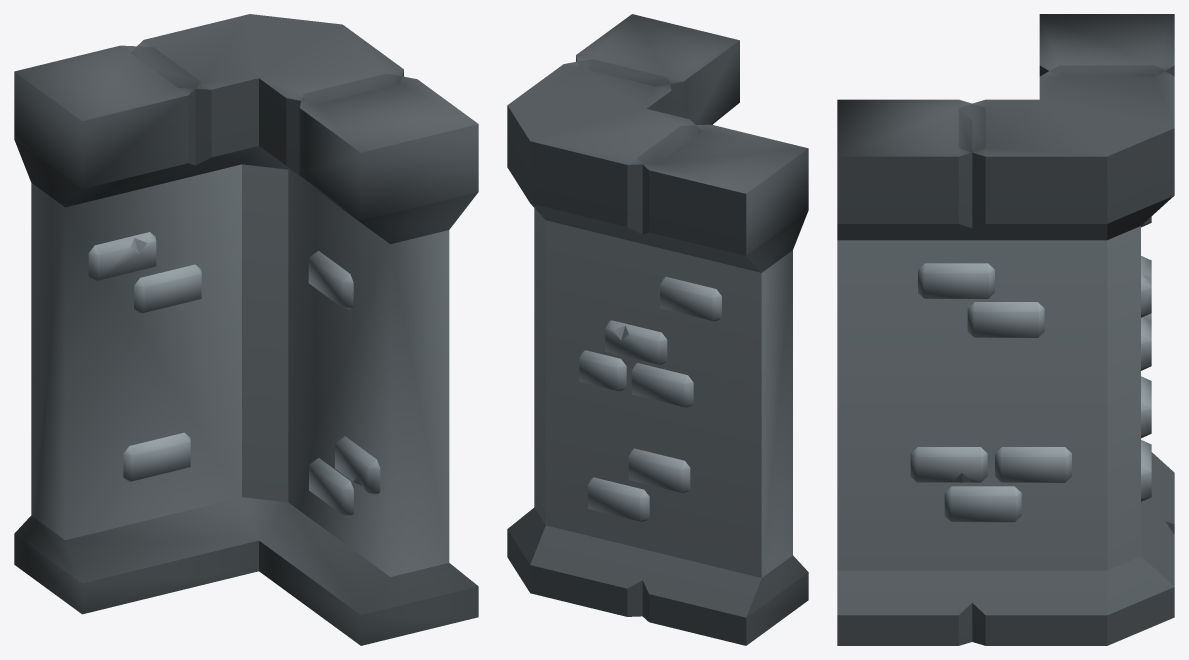
File: cellar_wall_corner-optimized.glb
3 renders of one model, left to right at view 1: azimuth 30°, elevation 25°; view 2: azimuth 150°, elevation 25°; view 3: azimuth 270°, elevation 25°, orthographic. The views are drawn at different scales.
Visible parts, largest first — view 1: wall_corner; view 2: wall_corner; view 3: wall_corner.
Part boxes in pixels (x1=…): wall_corner: x1=14, y1=14, x2=478, y2=645; wall_corner: x1=507, y1=14, x2=808, y2=645; wall_corner: x1=837, y1=14, x2=1174, y2=645.
Size of the model in its own units: 2.5 by 4 by 2.5.
Materials: 1 (1 with a texture image).
